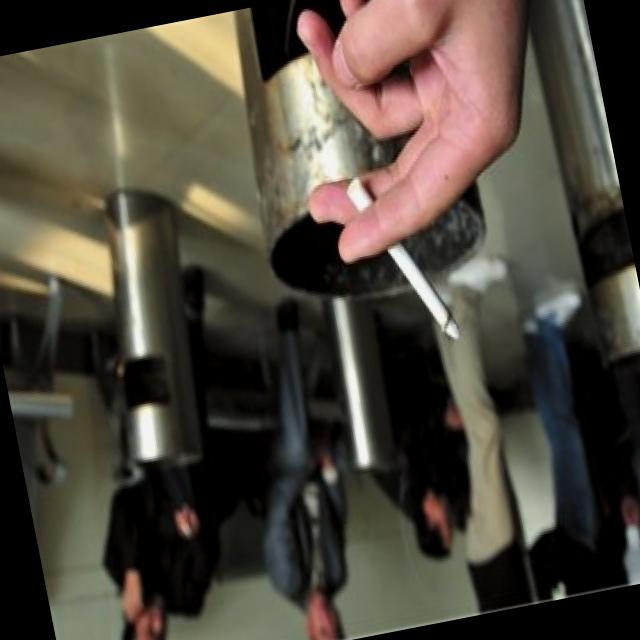cigarette: (342, 162, 463, 360)
